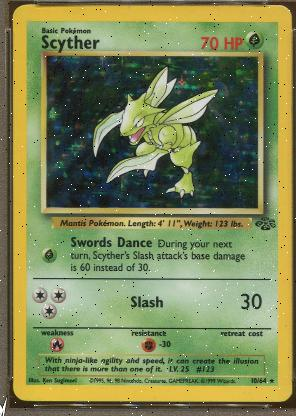Card: (11, 3, 293, 405)
